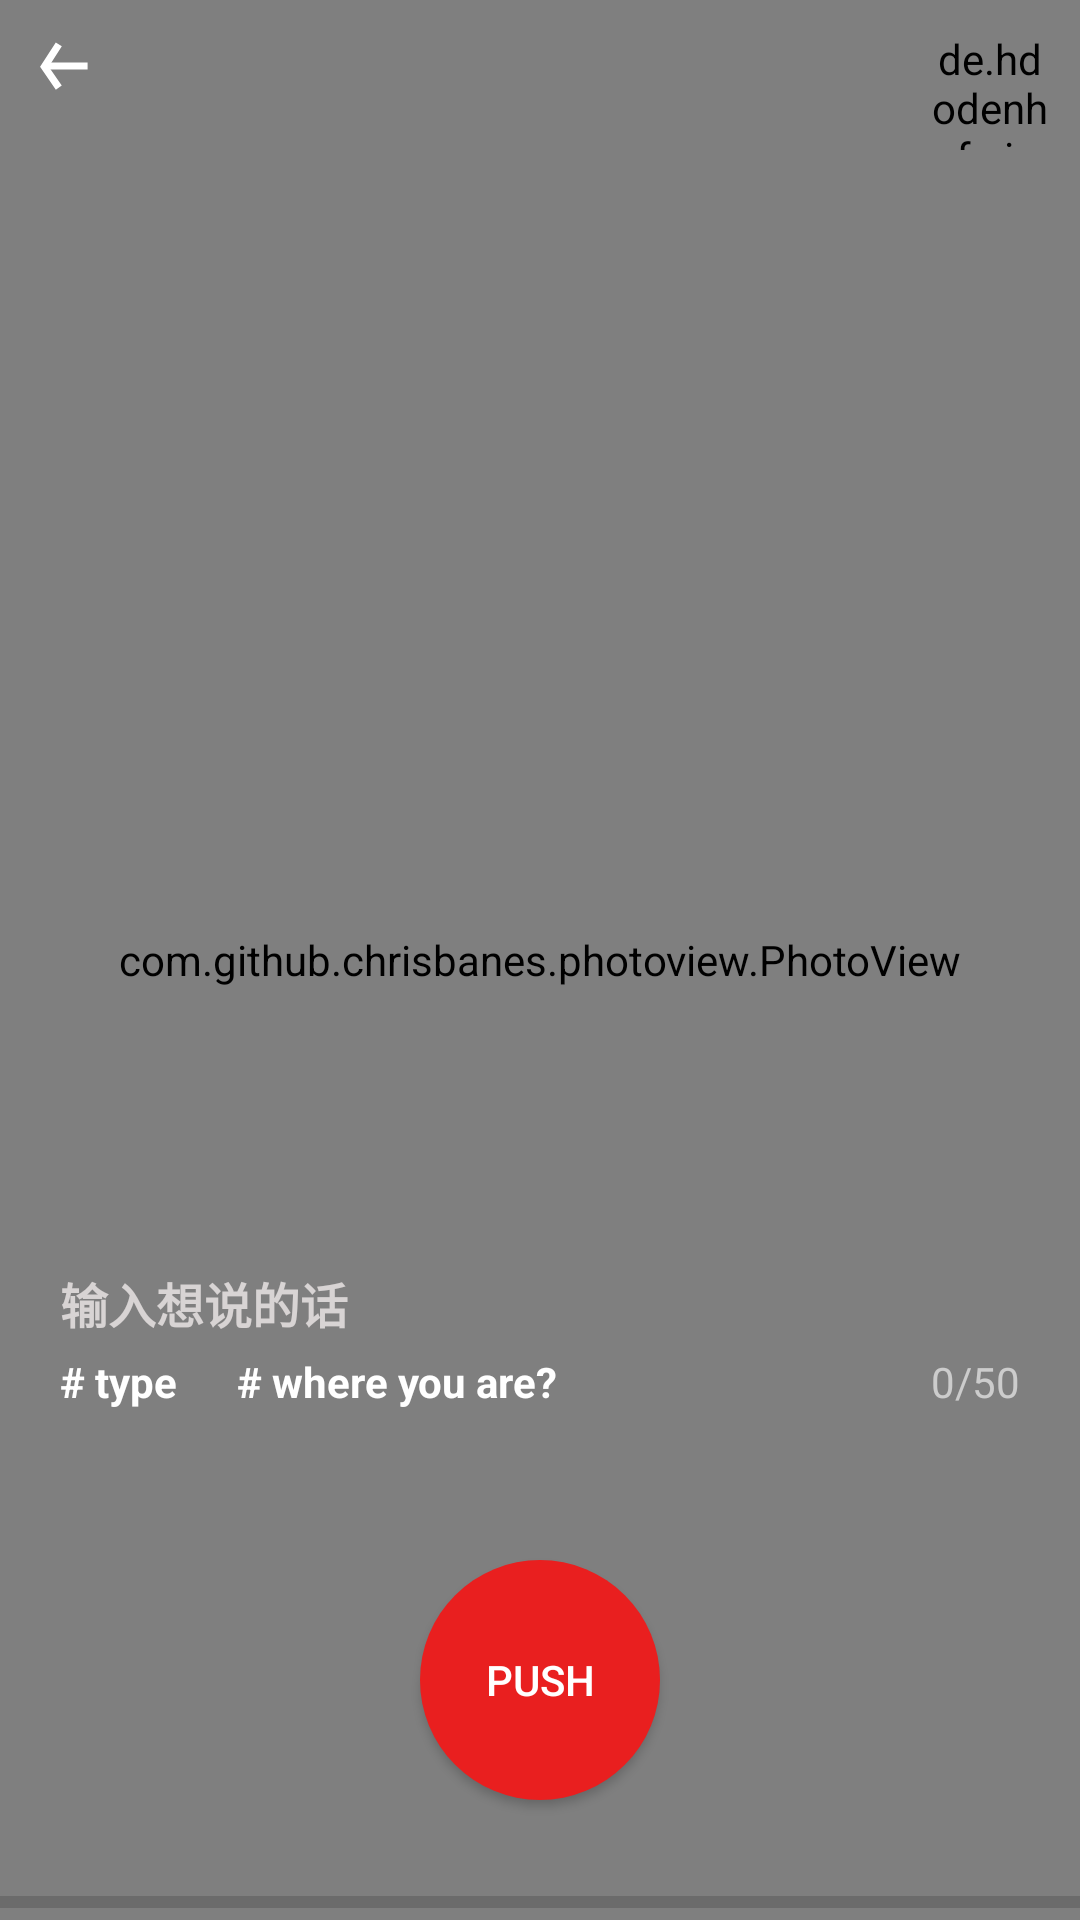

Where to tap for icons on this 1080×1920 app screen, as (x=x, y=y):
back: (x=64, y=66)
